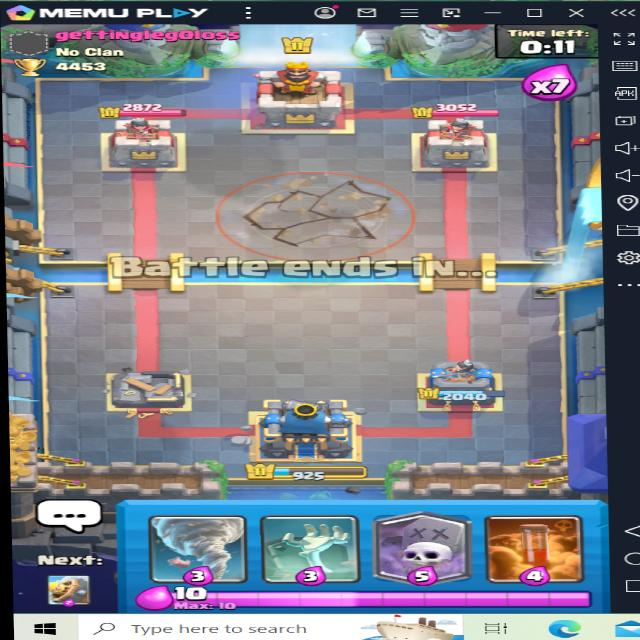Earthquake: (218, 169, 418, 260)
